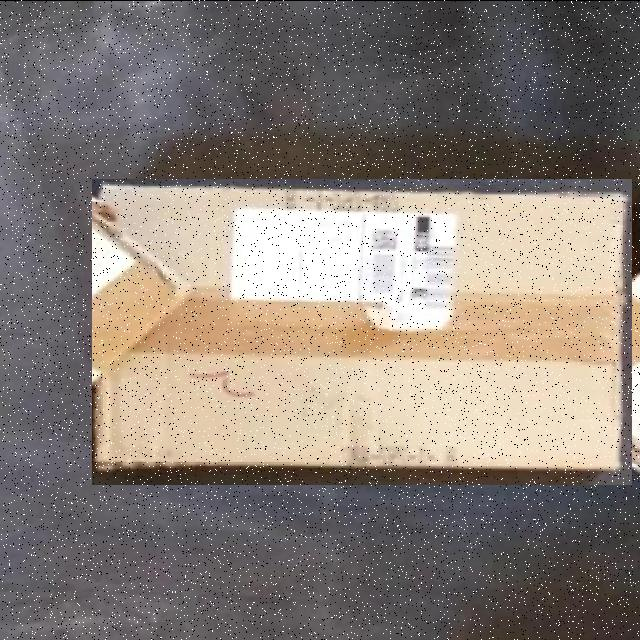normal: (92, 178, 632, 484)
